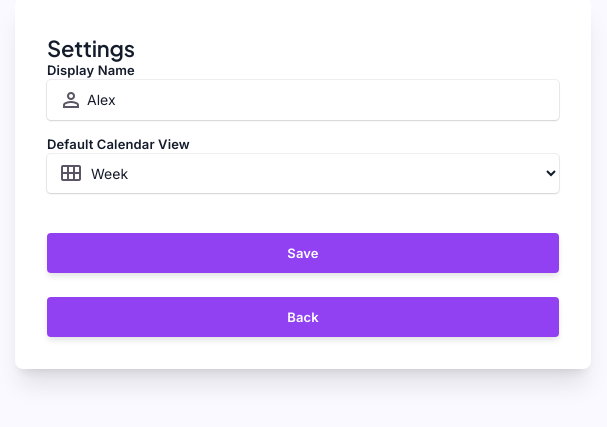
Test: settings › saves name and default view, keeping other profile fields
The image size is (607, 427).
Expected: the field labelled "Display Name" holds "Alex", [47, 80, 559, 120]
Step 1. Select "Month" in the dropdown labelled "Default Calendar View" → (303, 173), box [47, 154, 559, 192]
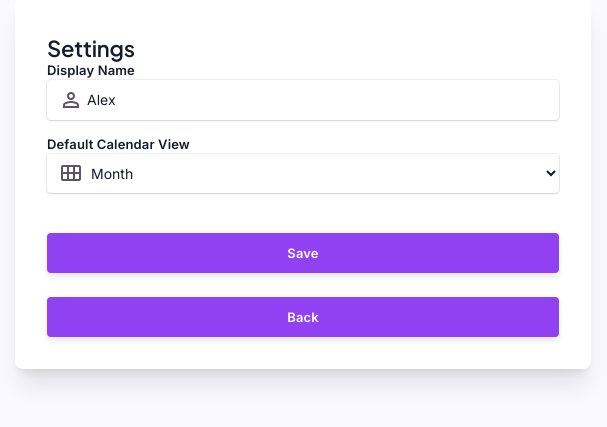
Step 2. Click the button "Save" → (303, 252), box [47, 232, 559, 272]
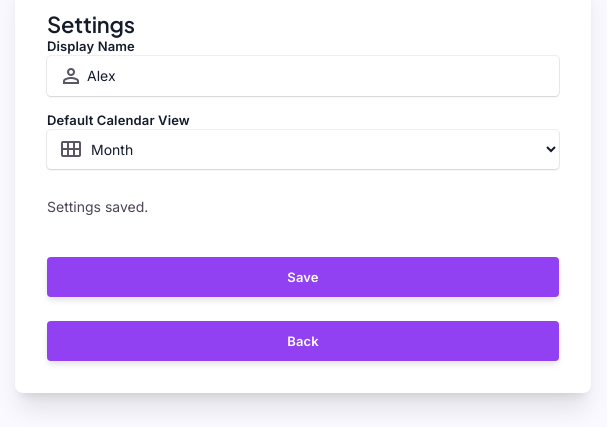
Now the message reads "Settings saved.", box [47, 198, 148, 214]
